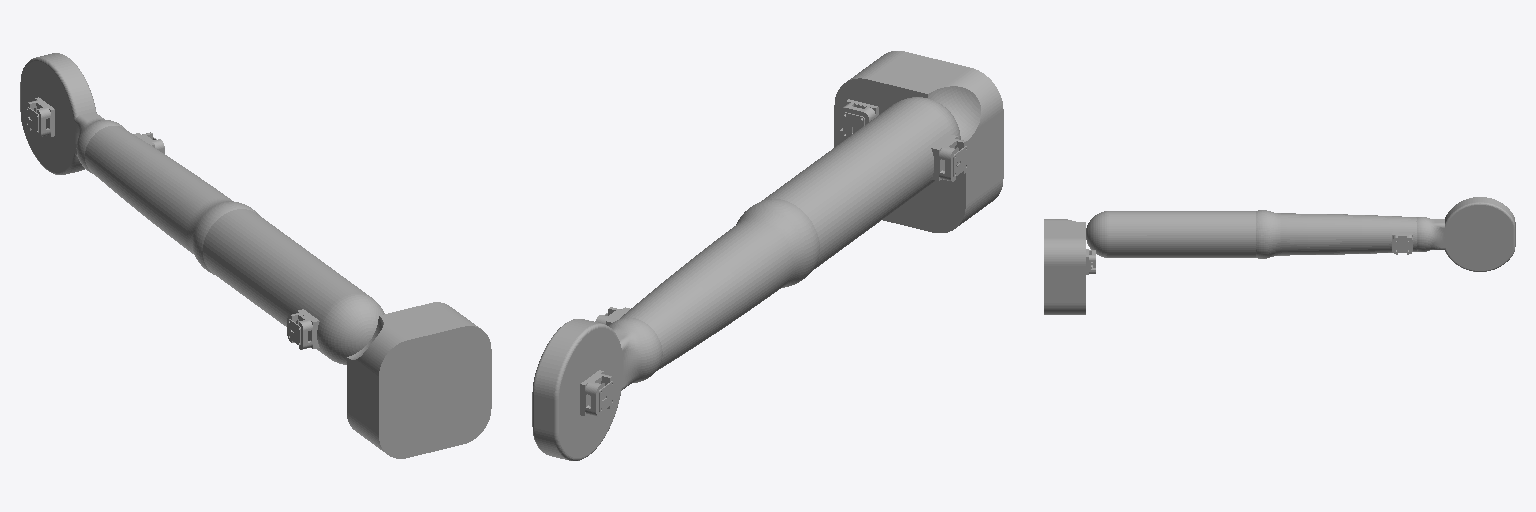
The robot description file, URDF, robot "teleoparm":
<?xml version="1.0" ?>
<!-- =================================================================================== -->
<!-- |    This document was autogenerated by xacro from teleoparm.xacro                | -->
<!-- |    EDITING THIS FILE BY HAND IS NOT RECOMMENDED                                 | -->
<!-- =================================================================================== -->
<robot name="teleoparm">
  <material name="silver">
    <color rgba="0.700 0.700 0.700 1.000"/>
  </material>
  <transmission name="shldrevolute_tran">
    <type>transmission_interface/SimpleTransmission</type>
    <joint name="shldrevolute">
      <hardwareInterface>hardware_interface/EffortJointInterface</hardwareInterface>
    </joint>
    <actuator name="shldrevolute_actr">
      <hardwareInterface>hardware_interface/EffortJointInterface</hardwareInterface>
      <mechanicalReduction>1</mechanicalReduction>
    </actuator>
  </transmission>
  <transmission name="elbowrevolute_tran">
    <type>transmission_interface/SimpleTransmission</type>
    <joint name="elbowrevolute">
      <hardwareInterface>hardware_interface/EffortJointInterface</hardwareInterface>
    </joint>
    <actuator name="elbowrevolute_actr">
      <hardwareInterface>hardware_interface/EffortJointInterface</hardwareInterface>
      <mechanicalReduction>1</mechanicalReduction>
    </actuator>
  </transmission>
  <transmission name="wristrevolute_tran">
    <type>transmission_interface/SimpleTransmission</type>
    <joint name="wristrevolute">
      <hardwareInterface>hardware_interface/EffortJointInterface</hardwareInterface>
    </joint>
    <actuator name="wristrevolute_actr">
      <hardwareInterface>hardware_interface/EffortJointInterface</hardwareInterface>
      <mechanicalReduction>1</mechanicalReduction>
    </actuator>
  </transmission>
  <gazebo>
    <plugin filename="libgazebo_ros_control.so" name="control"/>
  </gazebo>
  <gazebo reference="base_link">
    <material>Gazebo/Silver</material>
    <mu1>0.2</mu1>
    <mu2>0.2</mu2>
    <self_collide>true</self_collide>
    <gravity>true</gravity>
  </gazebo>
  <gazebo reference="arm_1">
    <material>Gazebo/Silver</material>
    <mu1>0.2</mu1>
    <mu2>0.2</mu2>
    <self_collide>true</self_collide>
  </gazebo>
  <gazebo reference="elbow_1">
    <material>Gazebo/Silver</material>
    <mu1>0.2</mu1>
    <mu2>0.2</mu2>
    <self_collide>true</self_collide>
  </gazebo>
  <gazebo reference="wrist_1">
    <material>Gazebo/Silver</material>
    <mu1>0.2</mu1>
    <mu2>0.2</mu2>
    <self_collide>true</self_collide>
  </gazebo>
  <gazebo reference="imumount_v2_1">
    <material>Gazebo/Silver</material>
    <mu1>0.2</mu1>
    <mu2>0.2</mu2>
    <self_collide>true</self_collide>
  </gazebo>
  <gazebo reference="imumount_v2__1__1">
    <material>Gazebo/Silver</material>
    <mu1>0.2</mu1>
    <mu2>0.2</mu2>
    <self_collide>true</self_collide>
  </gazebo>
  <gazebo reference="imumount_v2__2__1">
    <material>Gazebo/Silver</material>
    <mu1>0.2</mu1>
    <mu2>0.2</mu2>
    <self_collide>true</self_collide>
  </gazebo>
  <gazebo reference="imumount_v2__3__1">
    <material>Gazebo/Silver</material>
    <mu1>0.2</mu1>
    <mu2>0.2</mu2>
    <self_collide>true</self_collide>
  </gazebo>
  <gazebo reference="chestimu_1">
    <material>Gazebo/Silver</material>
    <mu1>0.2</mu1>
    <mu2>0.2</mu2>
    <self_collide>true</self_collide>
  </gazebo>
  <gazebo reference="armimu_1">
    <material>Gazebo/Silver</material>
    <mu1>0.2</mu1>
    <mu2>0.2</mu2>
    <self_collide>true</self_collide>
  </gazebo>
  <gazebo reference="elbowimu_1">
    <material>Gazebo/Silver</material>
    <mu1>0.2</mu1>
    <mu2>0.2</mu2>
    <self_collide>true</self_collide>
  </gazebo>
  <gazebo reference="wristimu_1">
    <material>Gazebo/Silver</material>
    <mu1>0.2</mu1>
    <mu2>0.2</mu2>
    <self_collide>true</self_collide>
  </gazebo>
  <link name="base_link">
    <inertial>
      <origin rpy="0 0 0" xyz="0.07113361231916689 0.09476516315892339 -0.07084274048346811"/>
      <mass value="10.050088451865955"/>
      <inertia ixx="0.018966" ixy="-0.000273" ixz="-0.00055" iyy="0.029715" iyz="0.000163" izz="0.018993"/>
    </inertial>
    <visual>
      <origin rpy="0 0 0" xyz="0 0 0"/>
      <geometry>
        <mesh filename="package://teleoparm_description/meshes/base_link.stl" scale="0.001 0.001 0.001"/>
      </geometry>
      <material name="silver"/>
    </visual>
    <collision>
      <origin rpy="0 0 0" xyz="0 0 0"/>
      <geometry>
        <mesh filename="package://teleoparm_description/meshes/base_link.stl" scale="0.001 0.001 0.001"/>
      </geometry>
    </collision>
  </link>
  <link name="imumount_v2_1">
    <inertial>
      <origin rpy="0 0 0" xyz="3.339349192721386e-07 0.0069197369262744 -3.342204968129203e-07"/>
      <mass value="0.04523287359850269"/>
      <inertia ixx="7e-06" ixy="-0.0" ixz="-0.0" iyy="1e-05" iyz="0.0" izz="5e-06"/>
    </inertial>
    <visual>
      <origin rpy="0 0 0" xyz="-0.109 -0.135 0.0425"/>
      <geometry>
        <mesh filename="package://teleoparm_description/meshes/imumount_v2_1.stl" scale="0.001 0.001 0.001"/>
      </geometry>
      <material name="silver"/>
    </visual>
    <collision>
      <origin rpy="0 0 0" xyz="-0.109 -0.135 0.0425"/>
      <geometry>
        <mesh filename="package://teleoparm_description/meshes/imumount_v2_1.stl" scale="0.001 0.001 0.001"/>
      </geometry>
    </collision>
  </link>
  <link name="imumount_v2__1__1">
    <inertial>
      <origin rpy="0 0 0" xyz="-0.006919465678812485 5.86783745454289e-07 3.2970043303132135e-08"/>
      <mass value="0.04523287359850269"/>
      <inertia ixx="1e-05" ixy="0.0" ixz="0.0" iyy="5e-06" iyz="0.0" izz="7e-06"/>
    </inertial>
    <visual>
      <origin rpy="0 0 0" xyz="0.016716 -0.190488 0.028268"/>
      <geometry>
        <mesh filename="package://teleoparm_description/meshes/imumount_v2__1__1.stl" scale="0.001 0.001 0.001"/>
      </geometry>
      <material name="silver"/>
    </visual>
    <collision>
      <origin rpy="0 0 0" xyz="0.016716 -0.190488 0.028268"/>
      <geometry>
        <mesh filename="package://teleoparm_description/meshes/imumount_v2__1__1.stl" scale="0.001 0.001 0.001"/>
      </geometry>
    </collision>
  </link>
  <link name="imumount_v2__2__1">
    <inertial>
      <origin rpy="0 0 0" xyz="0.006919508173724609 7.07822378265277e-07 -5.857178980994693e-07"/>
      <mass value="0.0452328735985027"/>
      <inertia ixx="1e-05" ixy="-0.0" ixz="0.0" iyy="5e-06" iyz="-0.0" izz="7e-06"/>
    </inertial>
    <visual>
      <origin rpy="0 0 0" xyz="-0.062697 -0.668541 0.028296"/>
      <geometry>
        <mesh filename="package://teleoparm_description/meshes/imumount_v2__2__1.stl" scale="0.001 0.001 0.001"/>
      </geometry>
      <material name="silver"/>
    </visual>
    <collision>
      <origin rpy="0 0 0" xyz="-0.062697 -0.668541 0.028296"/>
      <geometry>
        <mesh filename="package://teleoparm_description/meshes/imumount_v2__2__1.stl" scale="0.001 0.001 0.001"/>
      </geometry>
    </collision>
  </link>
  <link name="imumount_v2__3__1">
    <inertial>
      <origin rpy="0 0 0" xyz="-0.00691946567881243 3.342204966116924e-07 5.626874578501528e-07"/>
      <mass value="0.0452328735985027"/>
      <inertia ixx="1e-05" ixy="0.0" ixz="0.0" iyy="5e-06" iyz="0.0" izz="7e-06"/>
    </inertial>
    <visual>
      <origin rpy="0 0 0" xyz="-0.009284 -0.8 0.027972"/>
      <geometry>
        <mesh filename="package://teleoparm_description/meshes/imumount_v2__3__1.stl" scale="0.001 0.001 0.001"/>
      </geometry>
      <material name="silver"/>
    </visual>
    <collision>
      <origin rpy="0 0 0" xyz="-0.009284 -0.8 0.027972"/>
      <geometry>
        <mesh filename="package://teleoparm_description/meshes/imumount_v2__3__1.stl" scale="0.001 0.001 0.001"/>
      </geometry>
    </collision>
  </link>
  <link name="chestimu_1">
    <inertial>
      <origin rpy="0 0 0" xyz="1.545714944928278e-11 0.0006349999999999967 0.00018322645468379917"/>
      <mass value="0.005312650268367757"/>
      <inertia ixx="0.0" ixy="0.0" ixz="0.0" iyy="1e-06" iyz="0.0" izz="0.0"/>
    </inertial>
    <visual>
      <origin rpy="0 0 0" xyz="-0.109 -0.147 0.0425"/>
      <geometry>
        <mesh filename="package://teleoparm_description/meshes/chestimu_1.stl" scale="0.001 0.001 0.001"/>
      </geometry>
      <material name="silver"/>
    </visual>
    <collision>
      <origin rpy="0 0 0" xyz="-0.109 -0.147 0.0425"/>
      <geometry>
        <mesh filename="package://teleoparm_description/meshes/chestimu_1.stl" scale="0.001 0.001 0.001"/>
      </geometry>
    </collision>
  </link>
  <link name="armimu_1">
    <inertial>
      <origin rpy="0 0 0" xyz="-0.000634728752538085 -0.00018297429674676846 -3.0058463838106286e-07"/>
      <mass value="0.005312650268367757"/>
      <inertia ixx="1e-06" ixy="-0.0" ixz="-0.0" iyy="0.0" iyz="-0.0" izz="0.0"/>
    </inertial>
    <visual>
      <origin rpy="0 0 0" xyz="0.028716 -0.190488 0.028268"/>
      <geometry>
        <mesh filename="package://teleoparm_description/meshes/armimu_1.stl" scale="0.001 0.001 0.001"/>
      </geometry>
      <material name="silver"/>
    </visual>
    <collision>
      <origin rpy="0 0 0" xyz="0.028716 -0.190488 0.028268"/>
      <geometry>
        <mesh filename="package://teleoparm_description/meshes/armimu_1.stl" scale="0.001 0.001 0.001"/>
      </geometry>
    </collision>
  </link>
  <link name="elbowimu_1">
    <inertial>
      <origin rpy="0 0 0" xyz="0.0006347712474503303 -0.00018285325811384645 -2.5216321629384364e-07"/>
      <mass value="0.005312650268367757"/>
      <inertia ixx="1e-06" ixy="0.0" ixz="-0.0" iyy="0.0" iyz="0.0" izz="0.0"/>
    </inertial>
    <visual>
      <origin rpy="0 0 0" xyz="-0.074697 -0.668541 0.028296"/>
      <geometry>
        <mesh filename="package://teleoparm_description/meshes/elbowimu_1.stl" scale="0.001 0.001 0.001"/>
      </geometry>
      <material name="silver"/>
    </visual>
    <collision>
      <origin rpy="0 0 0" xyz="-0.074697 -0.668541 0.028296"/>
      <geometry>
        <mesh filename="package://teleoparm_description/meshes/elbowimu_1.stl" scale="0.001 0.001 0.001"/>
      </geometry>
    </collision>
  </link>
  <link name="wristimu_1">
    <inertial>
      <origin rpy="0 0 0" xyz="-0.0006347287525380269 -0.00018322645468393794 2.287679957552191e-07"/>
      <mass value="0.005312650268367757"/>
      <inertia ixx="1e-06" ixy="-0.0" ixz="0.0" iyy="0.0" iyz="-0.0" izz="0.0"/>
    </inertial>
    <visual>
      <origin rpy="0 0 0" xyz="0.002716 -0.8 0.027972"/>
      <geometry>
        <mesh filename="package://teleoparm_description/meshes/wristimu_1.stl" scale="0.001 0.001 0.001"/>
      </geometry>
      <material name="silver"/>
    </visual>
    <collision>
      <origin rpy="0 0 0" xyz="0.002716 -0.8 0.027972"/>
      <geometry>
        <mesh filename="package://teleoparm_description/meshes/wristimu_1.stl" scale="0.001 0.001 0.001"/>
      </geometry>
    </collision>
  </link>
  <link name="arm_1">
    <inertial>
      <origin rpy="0 0 0" xyz="-0.00021910399897615354 0.14173858615056883 -7.019503666175209e-08"/>
      <mass value="10.223679855950772"/>
      <inertia ixx="0.061527" ixy="-0.000182" ixz="0.0" iyy="0.008217" iyz="-0.0" izz="0.061616"/>
    </inertial>
    <visual>
      <origin rpy="0 0 0" xyz="-0.028284 -0.13 0.028284"/>
      <geometry>
        <mesh filename="package://teleoparm_description/meshes/arm_1.stl" scale="0.001 0.001 0.001"/>
      </geometry>
      <material name="silver"/>
    </visual>
    <collision>
      <origin rpy="0 0 0" xyz="-0.028284 -0.13 0.028284"/>
      <geometry>
        <mesh filename="package://teleoparm_description/meshes/arm_1.stl" scale="0.001 0.001 0.001"/>
      </geometry>
    </collision>
  </link>
  <link name="elbow_1">
    <inertial>
      <origin rpy="0 0 0" xyz="0.00021789727738510956 0.13945610053009078 -0.0001265095280190906"/>
      <mass value="8.504893880781394"/>
      <inertia ixx="0.058727" ixy="-0.000266" ixz="0.0" iyy="0.005291" iyz="0.0" izz="0.058771"/>
    </inertial>
    <visual>
      <origin rpy="0 0 0" xyz="-0.028284 -0.388754 0.028158"/>
      <geometry>
        <mesh filename="package://teleoparm_description/meshes/elbow_1.stl" scale="0.001 0.001 0.001"/>
      </geometry>
      <material name="silver"/>
    </visual>
    <collision>
      <origin rpy="0 0 0" xyz="-0.028284 -0.388754 0.028158"/>
      <geometry>
        <mesh filename="package://teleoparm_description/meshes/elbow_1.stl" scale="0.001 0.001 0.001"/>
      </geometry>
    </collision>
  </link>
  <link name="wrist_1">
    <inertial>
      <origin rpy="0 0 0" xyz="-0.00018197406093689236 0.10410271217210565 3.1790700250715342e-06"/>
      <mass value="3.9800296871313745"/>
      <inertia ixx="0.013577" ixy="1.9e-05" ixz="0.0" iyy="0.003664" iyz="-0.0" izz="0.010677"/>
    </inertial>
    <visual>
      <origin rpy="0 0 0" xyz="-0.028284 -0.6695 0.028284"/>
      <geometry>
        <mesh filename="package://teleoparm_description/meshes/wrist_1.stl" scale="0.001 0.001 0.001"/>
      </geometry>
      <material name="silver"/>
    </visual>
    <collision>
      <origin rpy="0 0 0" xyz="-0.028284 -0.6695 0.028284"/>
      <geometry>
        <mesh filename="package://teleoparm_description/meshes/wrist_1.stl" scale="0.001 0.001 0.001"/>
      </geometry>
    </collision>
  </link>
  <joint name="Rigid 6" type="fixed">
    <origin rpy="0 0 0" xyz="0.109 0.135 -0.0425"/>
    <parent link="base_link"/>
    <child link="imumount_v2_1"/>
  </joint>
  <joint name="Rigid 7" type="fixed">
    <origin rpy="0 0 0" xyz="-0.045 0.060488 1.6e-05"/>
    <parent link="arm_1"/>
    <child link="imumount_v2__1__1"/>
  </joint>
  <joint name="Rigid 8" type="fixed">
    <origin rpy="0 0 0" xyz="0.034413 0.279787 -0.000138"/>
    <parent link="elbow_1"/>
    <child link="imumount_v2__2__1"/>
  </joint>
  <joint name="Rigid 9" type="fixed">
    <origin rpy="0 0 0" xyz="-0.019 0.1305 0.000312"/>
    <parent link="wrist_1"/>
    <child link="imumount_v2__3__1"/>
  </joint>
  <joint name="chestimu" type="fixed">
    <origin rpy="0 0 0" xyz="0.0 0.012 0.0"/>
    <parent link="imumount_v2_1"/>
    <child link="chestimu_1"/>
  </joint>
  <joint name="armimu" type="fixed">
    <origin rpy="0 0 0" xyz="-0.012 0.0 0.0"/>
    <parent link="imumount_v2__1__1"/>
    <child link="armimu_1"/>
  </joint>
  <joint name="elbowimu" type="fixed">
    <origin rpy="0 0 0" xyz="0.012 0.0 0.0"/>
    <parent link="imumount_v2__2__1"/>
    <child link="elbowimu_1"/>
  </joint>
  <joint name="wristimu" type="fixed">
    <origin rpy="0 0 0" xyz="-0.012 0.0 0.0"/>
    <parent link="imumount_v2__3__1"/>
    <child link="wristimu_1"/>
  </joint>
  <!-- Ball joint for shoulder: 3 DOF -->
  <link name="shldr_virtual_1">
    <inertial>
      <mass value="0.001"/>
      <inertia ixx="0.0001" ixy="0" ixz="0" iyy="0.0001" iyz="0" izz="0.0001"/>
    </inertial>
  </link>
  <link name="shldr_virtual_2">
    <inertial>
      <mass value="0.001"/>
      <inertia ixx="0.0001" ixy="0" ixz="0" iyy="0.0001" iyz="0" izz="0.0001"/>
    </inertial>
  </link>
  <joint name="shldrevolute_roll" type="continuous">
    <origin rpy="0 0 0" xyz="0.028284 0.13 -0.028284"/>
    <parent link="base_link"/>
    <child link="shldr_virtual_1"/>
    <axis xyz="0 1 0"/>
  </joint>
  <joint name="shldrevolute_pitch" type="continuous">
    <origin rpy="0 0 0" xyz="0 0 0"/>
    <parent link="shldr_virtual_1"/>
    <child link="shldr_virtual_2"/>
    <axis xyz="1 0 0"/>
  </joint>
  <joint name="shldrevolute_yaw" type="continuous">
    <origin rpy="0 0 0" xyz="0 0 0"/>
    <parent link="shldr_virtual_2"/>
    <child link="arm_1"/>
    <axis xyz="0 0 1"/>
  </joint>
  <!-- Ball joint for elbow: 3 DOF -->
  <link name="elbow_virtual_1">
    <inertial>
      <mass value="0.001"/>
      <inertia ixx="0.0001" ixy="0" ixz="0" iyy="0.0001" iyz="0" izz="0.0001"/>
    </inertial>
  </link>
  <link name="elbow_virtual_2">
    <inertial>
      <mass value="0.001"/>
      <inertia ixx="0.0001" ixy="0" ixz="0" iyy="0.0001" iyz="0" izz="0.0001"/>
    </inertial>
  </link>
  <joint name="elbowrevolute_roll" type="continuous">
    <origin rpy="0 0 0" xyz="0.0 0.258754 0.000126"/>
    <parent link="arm_1"/>
    <child link="elbow_virtual_1"/>
    <axis xyz="0 1 0"/>
  </joint>
  <joint name="elbowrevolute_pitch" type="continuous">
    <origin rpy="0 0 0" xyz="0 0 0"/>
    <parent link="elbow_virtual_1"/>
    <child link="elbow_virtual_2"/>
    <axis xyz="1 0 0"/>
  </joint>
  <joint name="elbowrevolute_yaw" type="continuous">
    <origin rpy="0 0 0" xyz="0 0 0"/>
    <parent link="elbow_virtual_2"/>
    <child link="elbow_1"/>
    <axis xyz="0 0 1"/>
  </joint>
  <!-- Ball joint for wrist: 3 DOF -->
  <link name="wrist_virtual_1">
    <inertial>
      <mass value="0.001"/>
      <inertia ixx="0.0001" ixy="0" ixz="0" iyy="0.0001" iyz="0" izz="0.0001"/>
    </inertial>
  </link>
  <link name="wrist_virtual_2">
    <inertial>
      <mass value="0.001"/>
      <inertia ixx="0.0001" ixy="0" ixz="0" iyy="0.0001" iyz="0" izz="0.0001"/>
    </inertial>
  </link>
  <joint name="wristrevolute_roll" type="continuous">
    <origin rpy="0 0 0" xyz="0.0 0.280746 -0.000126"/>
    <parent link="elbow_1"/>
    <child link="wrist_virtual_1"/>
    <axis xyz="0 1 0"/>
  </joint>
  <joint name="wristrevolute_pitch" type="continuous">
    <origin rpy="0 0 0" xyz="0 0 0"/>
    <parent link="wrist_virtual_1"/>
    <child link="wrist_virtual_2"/>
    <axis xyz="1 0 0"/>
  </joint>
  <joint name="wristrevolute_yaw" type="continuous">
    <origin rpy="0 0 0" xyz="0 0 0"/>
    <parent link="wrist_virtual_2"/>
    <child link="wrist_1"/>
    <axis xyz="0 0 1"/>
  </joint>
</robot>

--- Facts derived from the render (not from the file) ---
The picture shows the robot from 3 angles, left to right: view 1: azimuth 30°, elevation 25°; view 2: azimuth 150°, elevation 25°; view 3: azimuth 270°, elevation 25°; orthographic projection.
Robot: teleoparm — 18 links, 17 joints (9 continuous, 8 fixed); root link base_link; default pose: every joint at zero.
Links seen in each view (by area): view 1: base_link, arm_1, elbow_1, wrist_1; view 2: elbow_1, arm_1, base_link, wrist_1, imumount_v2__1__1, imumount_v2__3__1; view 3: arm_1, elbow_1, wrist_1, base_link.
Link boxes in pixels (box(x1,y1,x2,y2)): base_link: box(347, 302, 491, 458); arm_1: box(203, 209, 384, 364); elbow_1: box(85, 126, 258, 274); wrist_1: box(20, 53, 124, 174); elbow_1: box(606, 199, 819, 370); arm_1: box(762, 97, 960, 270); base_link: box(834, 51, 1003, 232); wrist_1: box(532, 318, 662, 460); imumount_v2__1__1: box(939, 139, 968, 181); imumount_v2__3__1: box(585, 374, 614, 416); arm_1: box(1086, 211, 1255, 257); elbow_1: box(1256, 210, 1416, 258); wrist_1: box(1416, 197, 1515, 271); base_link: box(1044, 219, 1088, 314).
Bounding box of the posed robot: 0.17 × 0.8 × 0.1769 m (x, y, z).
Meshes: 12 distinct files referenced, 12 mesh visuals loaded (12 binary STL).
